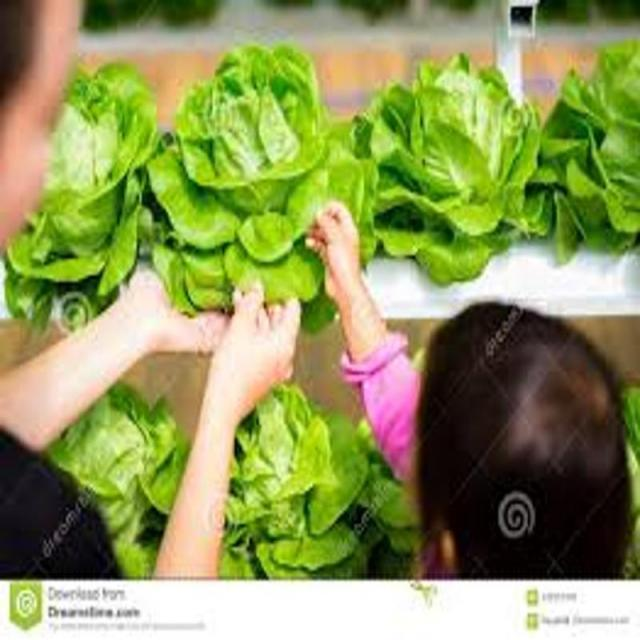Lettuce: (158, 40, 354, 328), (150, 360, 373, 588), (347, 49, 548, 288), (0, 59, 165, 324), (44, 370, 194, 585), (543, 36, 640, 258)
